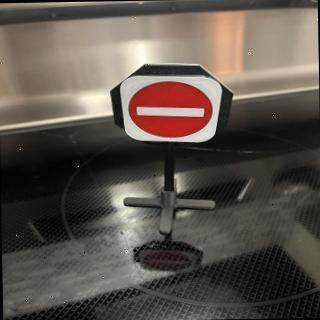sign_noentry: (119, 73, 225, 146)
